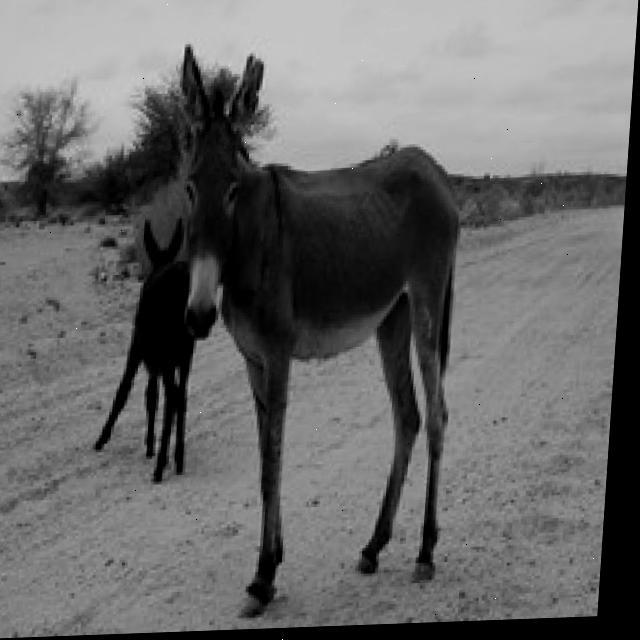Donkey: (141, 31, 474, 622), (90, 215, 202, 484)
